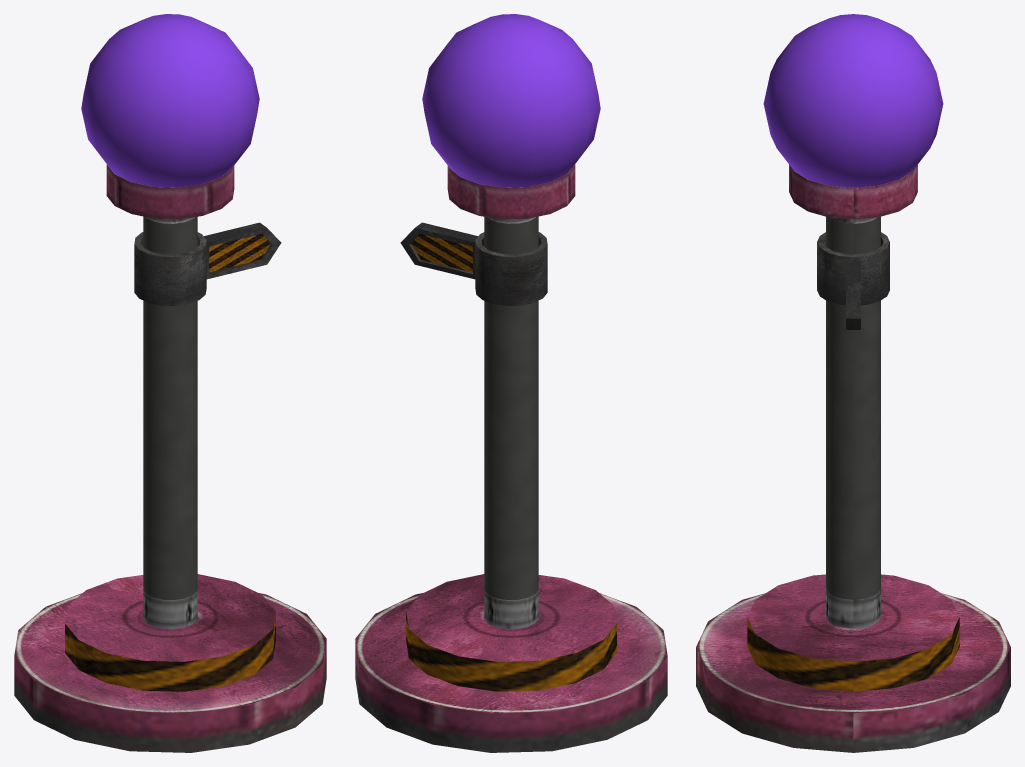
The model's file is checkpoint_2.fbx.
3 views of the same model, side by side, from view 1: azimuth 30°, elevation 25°; view 2: azimuth 150°, elevation 25°; view 3: azimuth 270°, elevation 25° (orthographic).
Parts seen in each view (by area): view 1: Checkpoint, Checkpoint Light; view 2: Checkpoint, Checkpoint Light; view 3: Checkpoint, Checkpoint Light.
Part boxes in pixels (<box>): Checkpoint: <box>14,164,326,752</box>; Checkpoint Light: <box>81,14,259,187</box>; Checkpoint: <box>355,164,667,752</box>; Checkpoint Light: <box>422,14,600,187</box>; Checkpoint: <box>696,164,1010,752</box>; Checkpoint Light: <box>763,14,943,187</box>.
Size of the model in its own units: 1.47 by 3.41 by 1.47.
